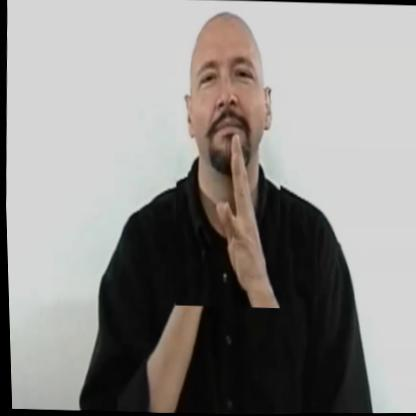Talk: (167, 0, 288, 309)
